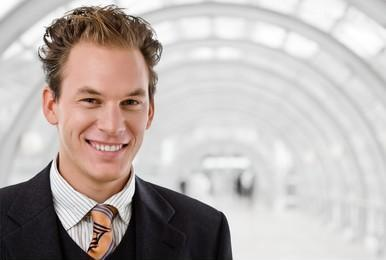face: (59, 44, 157, 181)
